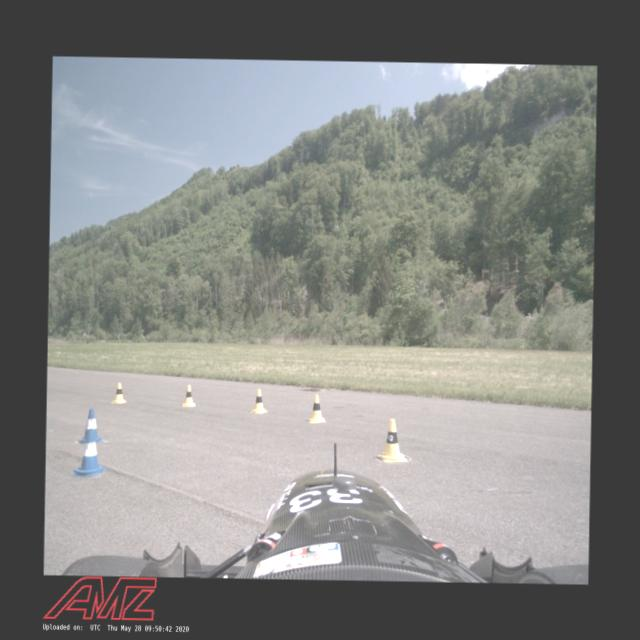blue_cone: (70, 428, 107, 477), (78, 408, 104, 444)
yellow_cone: (378, 418, 408, 462), (305, 394, 326, 424), (250, 388, 268, 414), (180, 384, 196, 407), (111, 382, 126, 404)
